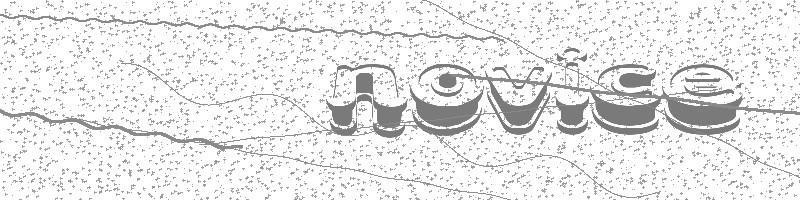c: (588, 59, 667, 139)
e: (661, 56, 753, 138)
i: (554, 42, 592, 136)
n: (320, 62, 412, 143)
o: (404, 59, 484, 141)
v: (482, 56, 555, 143)
